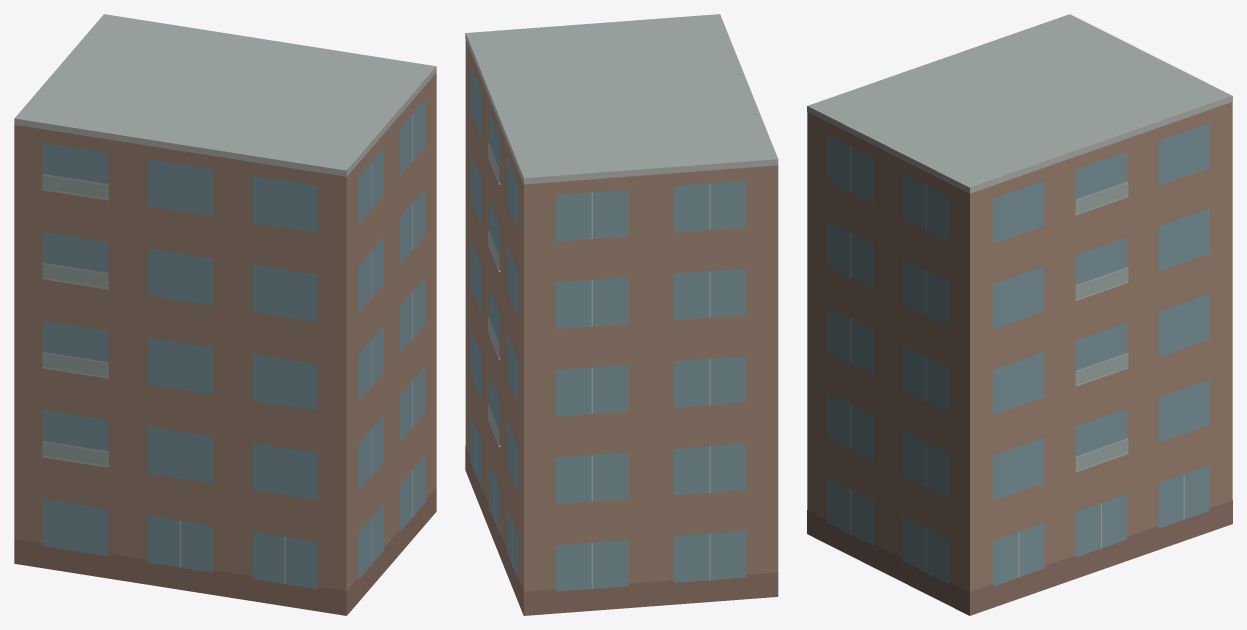
Rendered from survey-upis-32943927.glb.
The picture shows the model from 3 angles, left to right: view 1: azimuth 30°, elevation 25°; view 2: azimuth 150°, elevation 25°; view 3: azimuth 270°, elevation 25°; orthographic projection. The views are drawn at different scales.
Visible parts, largest first — view 1: survey-upis-32943927.tmp; view 2: survey-upis-32943927.tmp; view 3: survey-upis-32943927.tmp.
Part boxes in pixels (<box>): survey-upis-32943927.tmp: <box>14,14,436,615</box>; survey-upis-32943927.tmp: <box>465,14,778,615</box>; survey-upis-32943927.tmp: <box>807,14,1232,615</box>.
Size of the model in its own units: 15.18 by 17.43 by 15.71.
